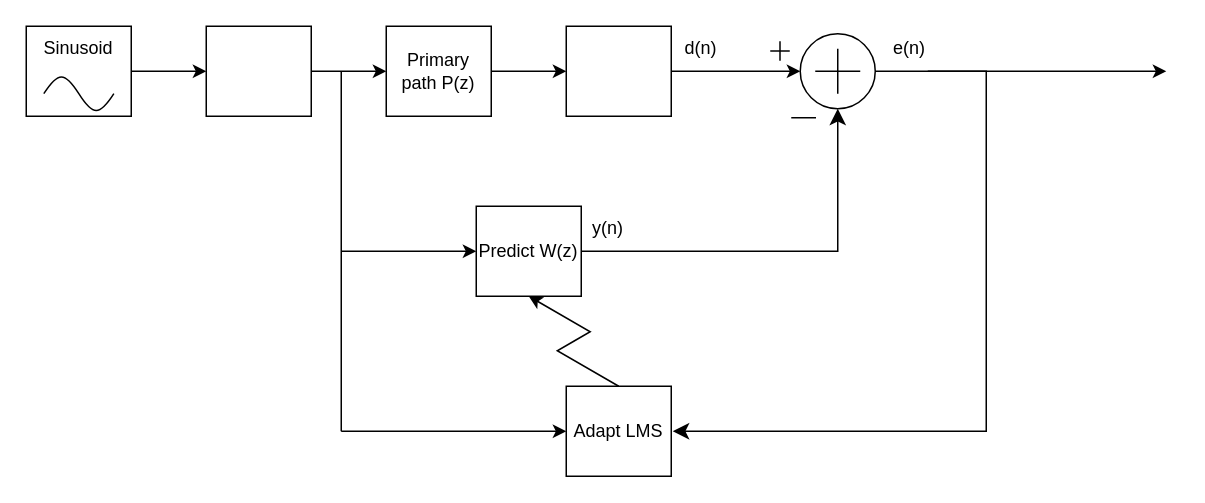
This 1205x503 diagram has some shape labels left out. Here are the shapes that lost their labels. From the top down, the box of each, then its label:
(205, 25, 311, 116): + Noise
(565, 25, 671, 116): Secondary path S(z)
